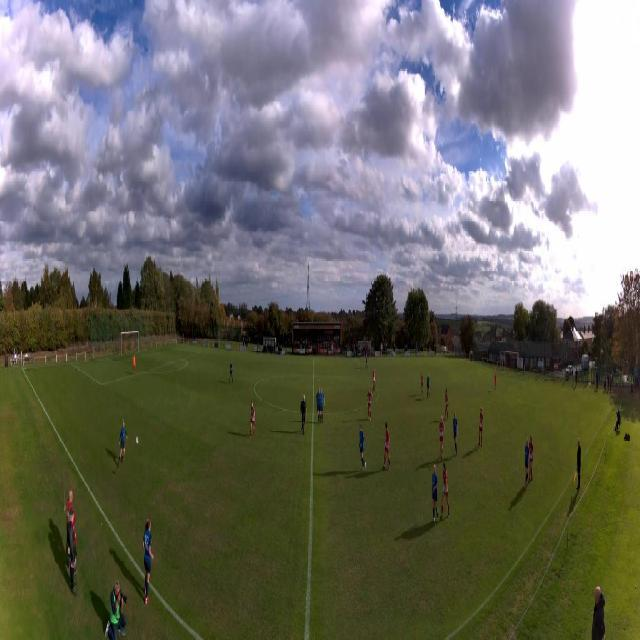ball: (136, 437, 139, 445)
player: (440, 461, 450, 520), (117, 419, 128, 469), (382, 422, 392, 470), (431, 465, 439, 524), (358, 423, 367, 472), (316, 387, 326, 425), (439, 415, 447, 459), (528, 435, 534, 482), (453, 410, 459, 457), (301, 393, 307, 437), (524, 437, 529, 487), (478, 406, 484, 447), (250, 400, 256, 439), (367, 388, 373, 422), (444, 389, 450, 419), (426, 373, 430, 398), (229, 359, 233, 383), (421, 373, 424, 395), (133, 353, 136, 375), (373, 369, 376, 390), (494, 370, 496, 390), (366, 353, 368, 368)
